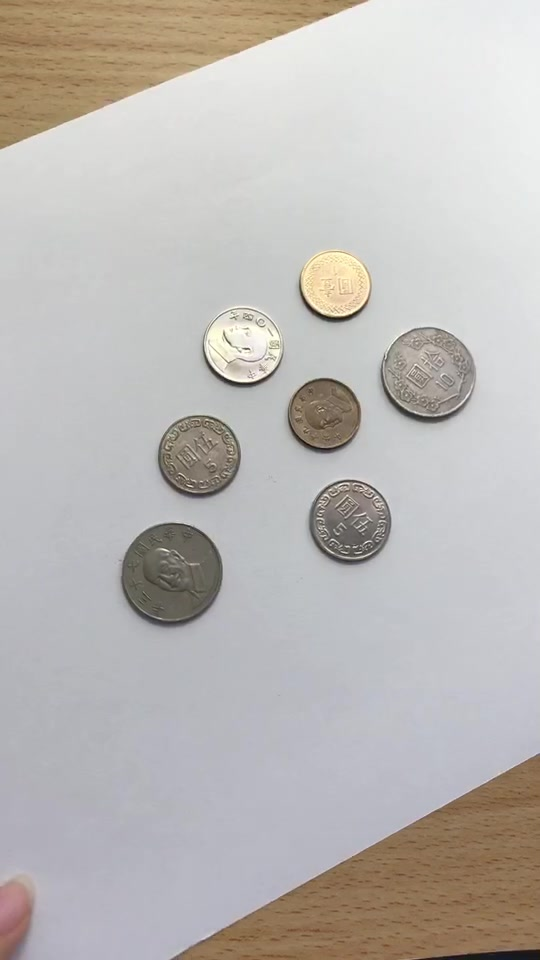1 dallar: (296, 242, 382, 322), (284, 376, 366, 457)
10 dallar: (112, 513, 226, 629), (370, 319, 484, 435)
5 dallar: (157, 409, 242, 500), (202, 300, 287, 391), (307, 475, 392, 566)
